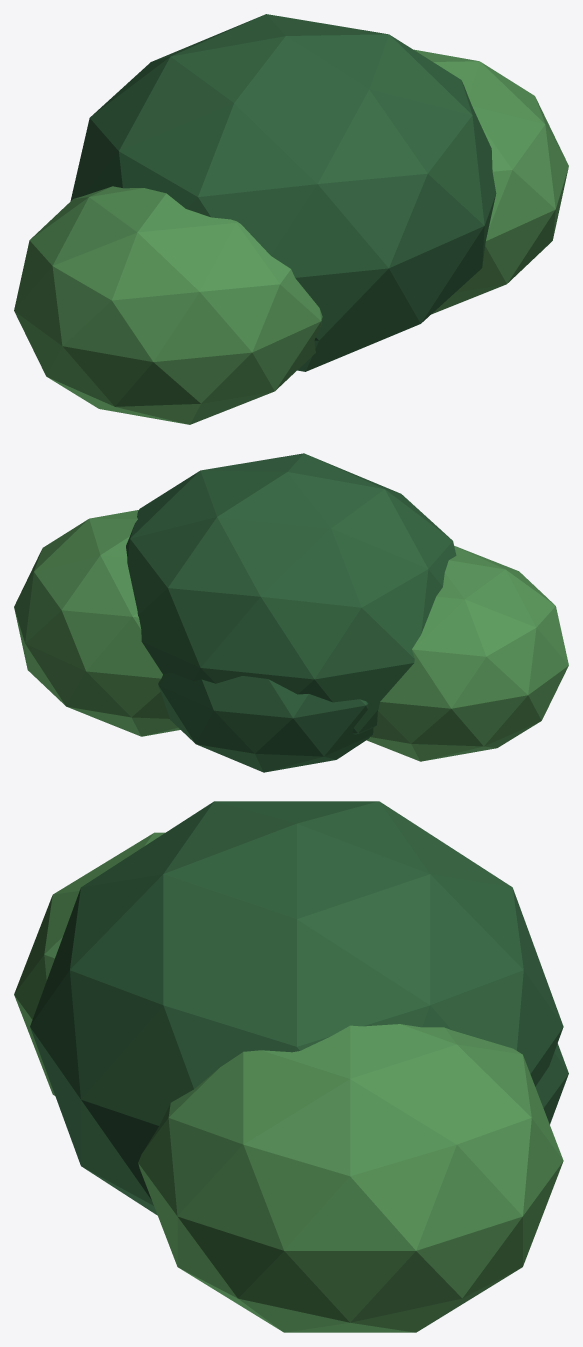
Rendered from bush.glb.
3 renders of one model, top to bottom at view 1: azimuth 30°, elevation 25°; view 2: azimuth 150°, elevation 25°; view 3: azimuth 270°, elevation 25°, orthographic. The views are drawn at different scales.
Parts seen in each view (by area): view 1: Bush_Cluster_1, Bush_Cluster_2, Bush_Cluster_3; view 2: Bush_Cluster_1, Bush_Cluster_2, Bush_Cluster_3, Bush_Cluster_4; view 3: Bush_Cluster_1, Bush_Cluster_3, Bush_Cluster_2, Bush_Cluster_4.
Boxes of the visible parts, x1,y1,x2,y2 form: Bush_Cluster_1: (70, 14, 496, 371); Bush_Cluster_2: (14, 186, 322, 424); Bush_Cluster_3: (414, 49, 568, 313); Bush_Cluster_1: (126, 453, 456, 734); Bush_Cluster_2: (366, 546, 568, 761); Bush_Cluster_3: (14, 510, 180, 736); Bush_Cluster_4: (158, 672, 373, 772); Bush_Cluster_1: (30, 801, 563, 1215); Bush_Cluster_3: (138, 1024, 563, 1332); Bush_Cluster_2: (14, 832, 164, 1095); Bush_Cluster_4: (535, 1043, 568, 1124).
Size of the model in its own units: 1.56 by 0.84 by 1.04.
